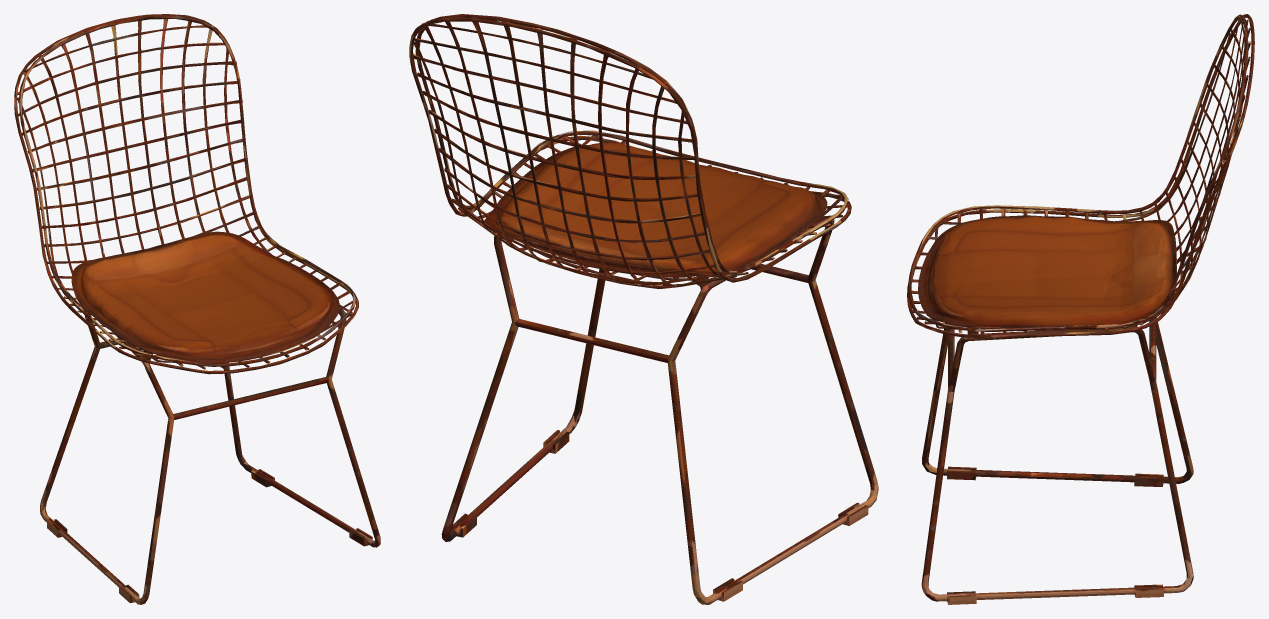
File: edited_mesh.glb
3 renders of one model, left to right at view 1: azimuth 30°, elevation 25°; view 2: azimuth 150°, elevation 25°; view 3: azimuth 270°, elevation 25°, orthographic. The views are drawn at different scales.
Parts seen in each view (by area): view 1: solid_001_wire; view 2: solid_001_wire; view 3: solid_001_wire.
Part boxes in pixels (x1,y1,x2,y2): solid_001_wire: [14, 14, 380, 604]; solid_001_wire: [409, 14, 878, 604]; solid_001_wire: [907, 14, 1254, 604].
Bounding box in the file's own units: 0.8537 × 1.52 × 0.9609.
Materials: 1 (1 with a texture image).
